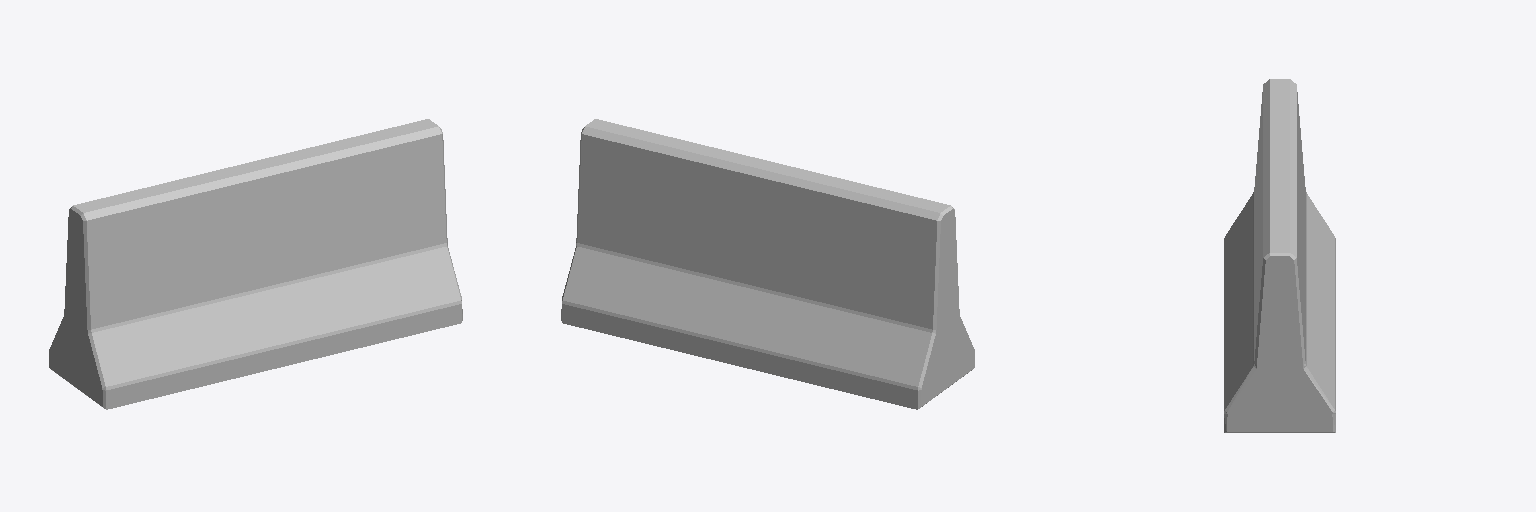
Rendered from concrete-barrier.obj.
3 views of the same model, side by side, from view 1: azimuth 30°, elevation 25°; view 2: azimuth 150°, elevation 25°; view 3: azimuth 270°, elevation 25° (orthographic).
Parts seen in each view (by area): view 1: Concrete_barrier; view 2: Concrete_barrier; view 3: Concrete_barrier.
Boxes of the visible parts, x1,y1,x2,y2 form: Concrete_barrier: [49, 119, 462, 409]; Concrete_barrier: [561, 119, 974, 409]; Concrete_barrier: [1224, 79, 1335, 432].
Size of the model in its own units: 0.7719 by 0.369 by 0.2084.